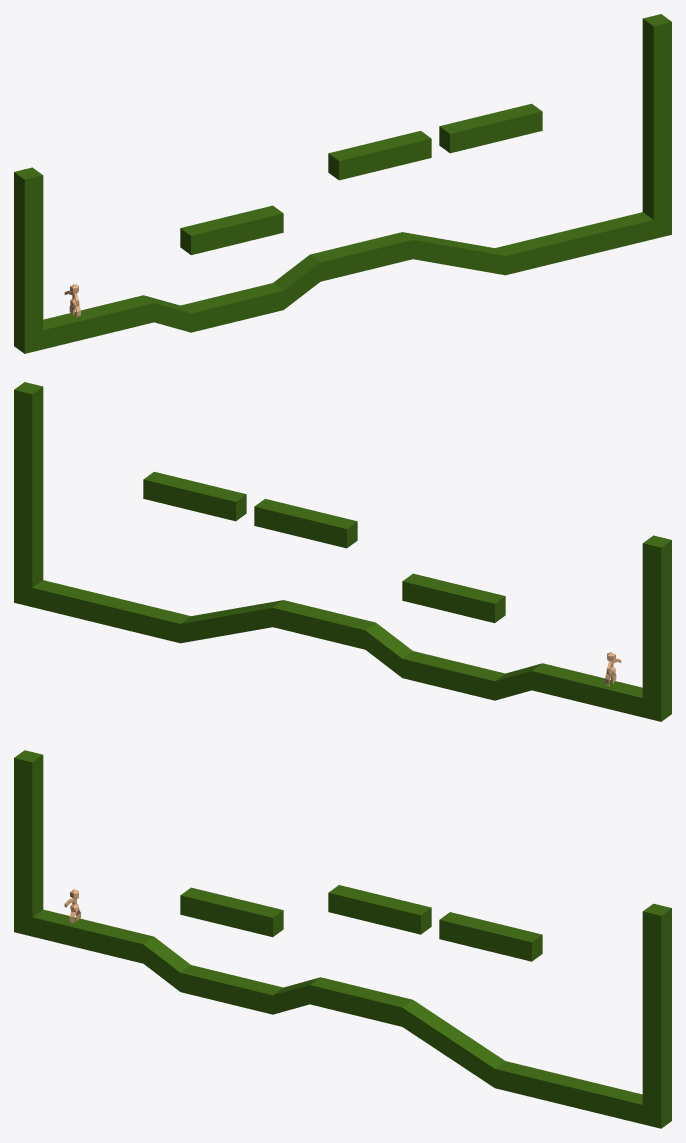
Rendered from models.glb.
The picture shows the model from 3 angles, top to bottom: view 1: azimuth 30°, elevation 25°; view 2: azimuth 150°, elevation 25°; view 3: azimuth 330°, elevation 25°; orthographic projection.
Parts seen in each view (by area): view 1: MapObject; view 2: MapObject; view 3: MapObject.
Boxes of the visible parts, x1,y1,x2,y2 form: MapObject: (14,14,671,353); MapObject: (14,382,671,721); MapObject: (14,750,671,1128).
Size of what is drawn, in the model's own units: 35 by 11 by 1.16.
